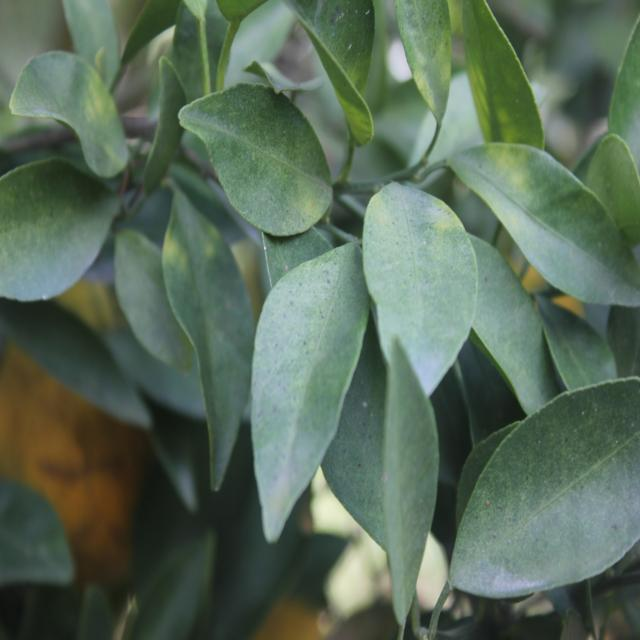blackspot: (461, 413, 629, 586), (250, 265, 361, 516), (368, 202, 458, 326), (340, 382, 383, 499), (400, 0, 454, 88)
